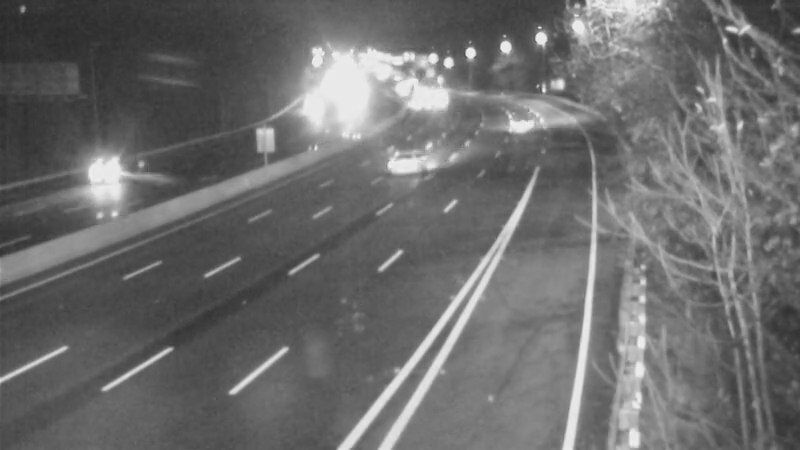vehicle: (357, 132, 437, 212), (69, 132, 149, 212), (389, 77, 439, 127), (489, 100, 539, 150), (293, 83, 343, 133)
